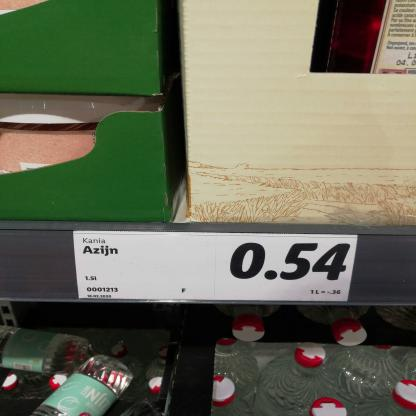prtg: (74, 232, 359, 303)
